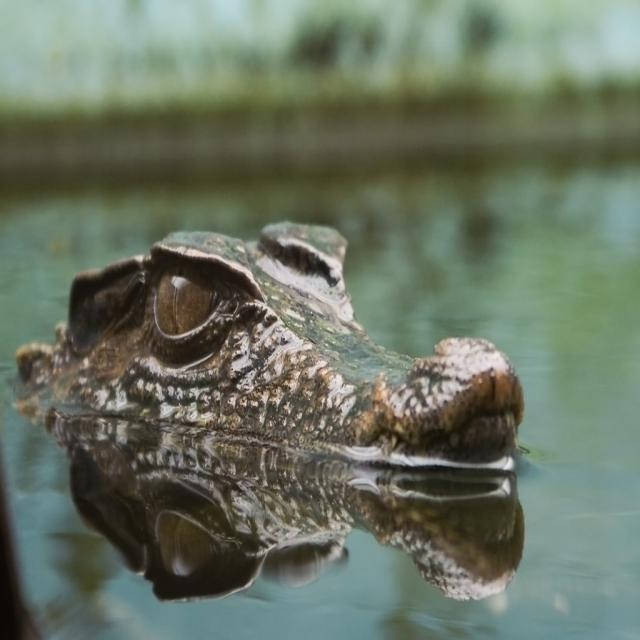crocodile: (17, 223, 523, 460)
